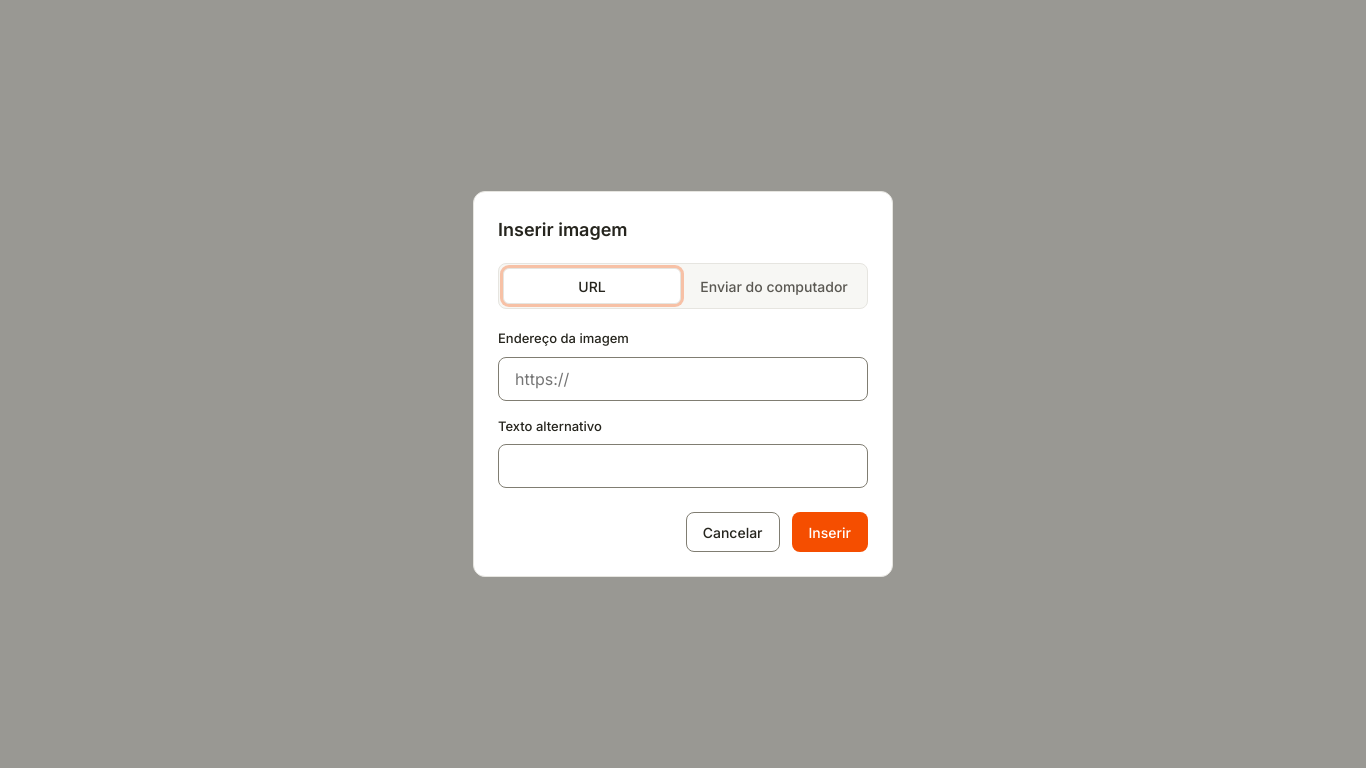
it: ImageDialog — aba URL › javascript:alert(1) mostra o erro e não insere
Type "javascript:alert(1)" into the field labelled "Endereço da imagem" at (683,378), box [498, 356, 868, 400]
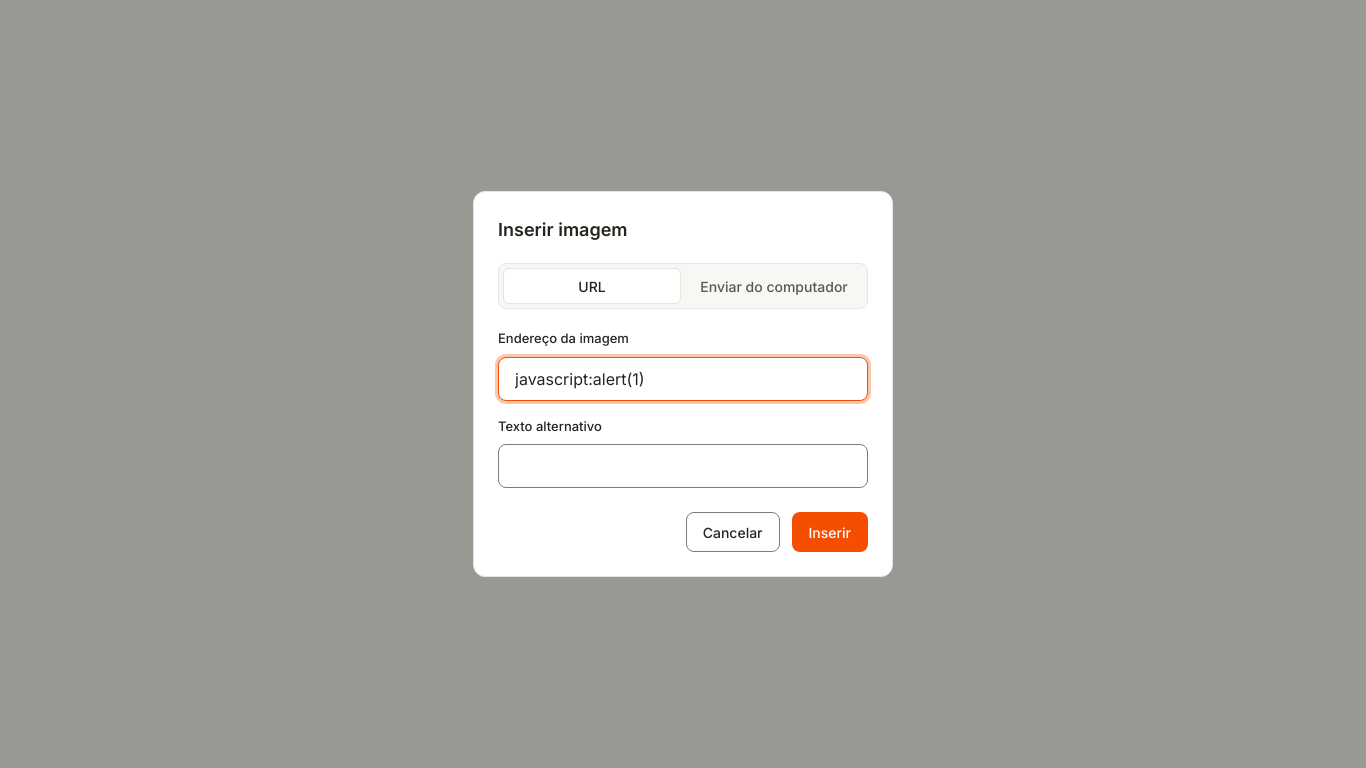
Click the button "Inserir" at (830,532), box [792, 512, 868, 552]
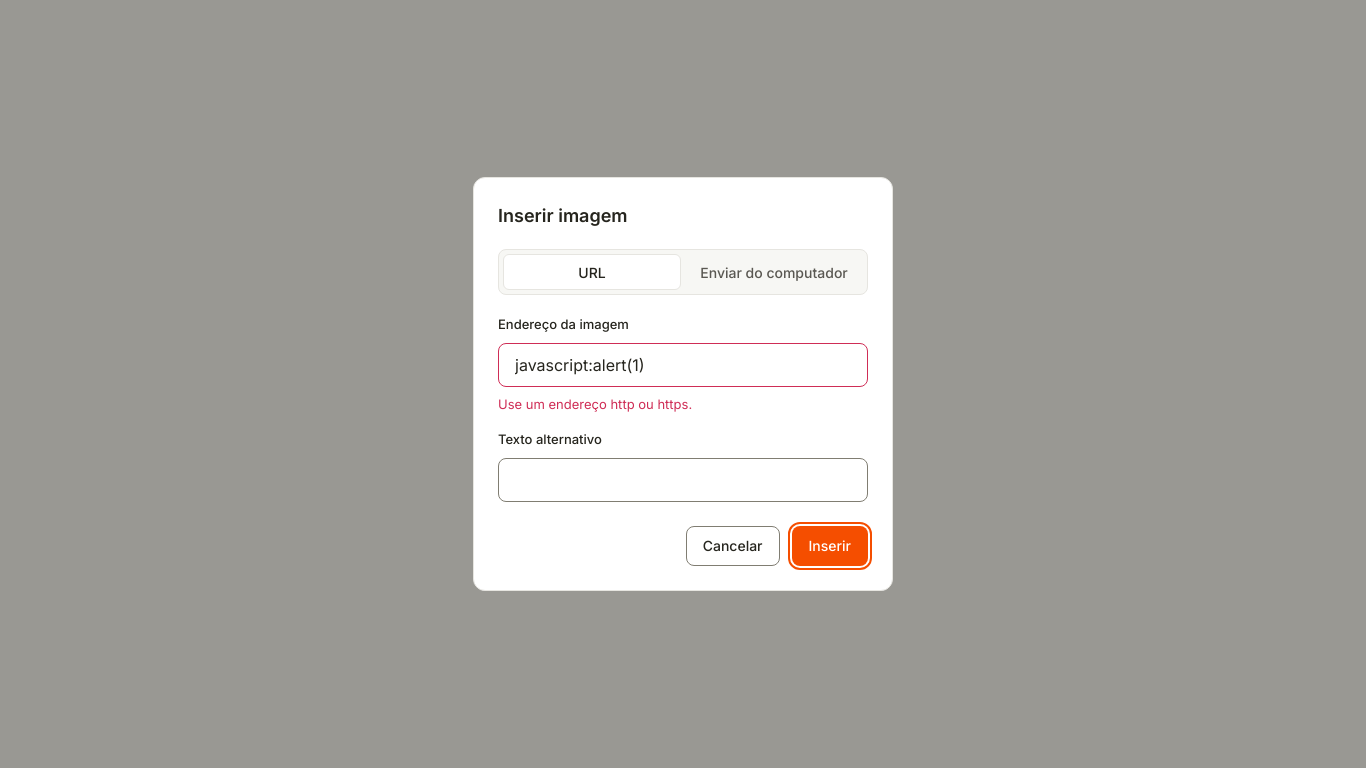
Check: the text "Use um endereço http ou https." is shown, box [498, 396, 692, 412]
